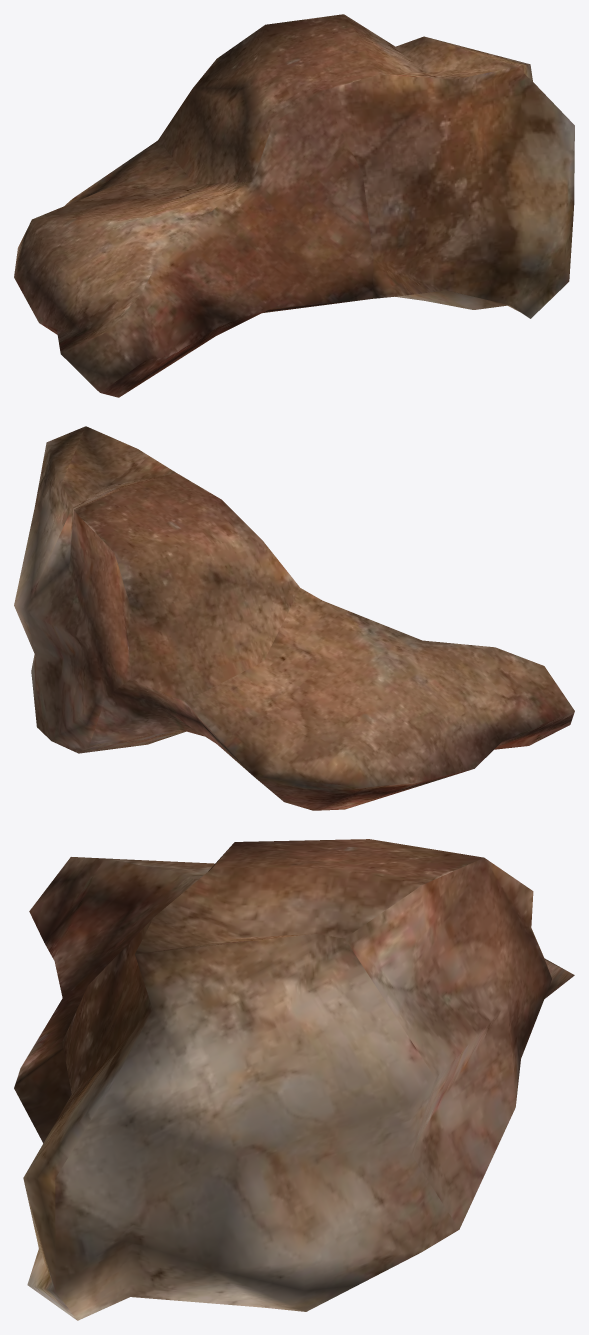
File: stone_01.glb
3 views of the same model, one above another, from view 1: azimuth 30°, elevation 25°; view 2: azimuth 150°, elevation 25°; view 3: azimuth 270°, elevation 25° (orthographic). The views are drawn at different scales.
Parts seen in each view (by area): view 1: stone_01; view 2: stone_01; view 3: stone_01.
Boxes of the visible parts, x1,y1,x2,y2 form: stone_01: (14, 14, 574, 397); stone_01: (14, 426, 574, 810); stone_01: (14, 839, 574, 1320).
Bounding box in the file's own units: 0.1461 × 0.0703 × 0.0885.
Materials: 1 (1 with a texture image).
